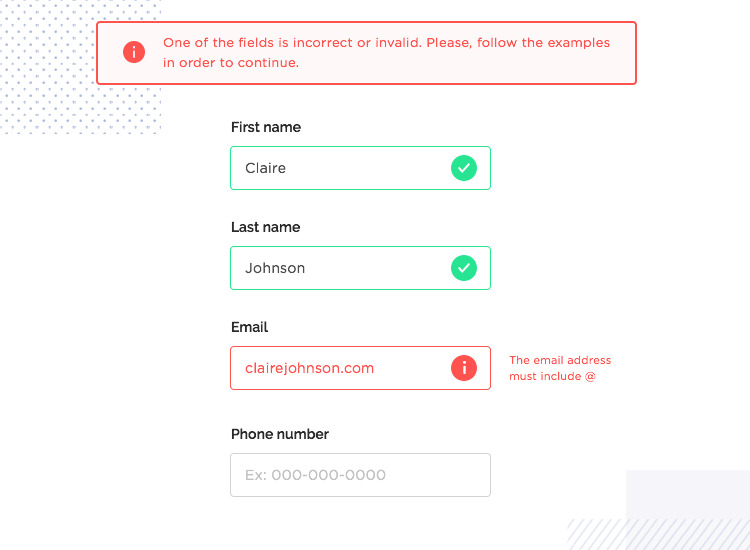error_field: (229, 344, 492, 390)
error_message: (160, 35, 613, 70), (509, 353, 612, 382)
